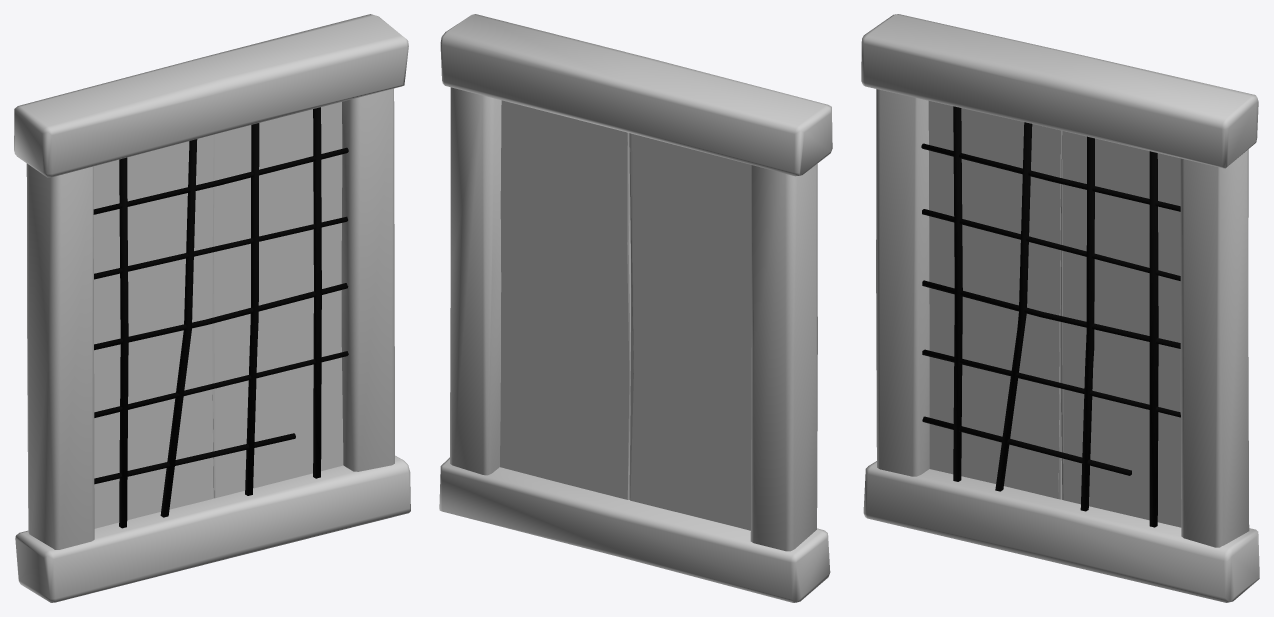
The model's file is SM_Window_03_LOD_01.FBX.
3 renders of one model, left to right at view 1: azimuth 30°, elevation 25°; view 2: azimuth 150°, elevation 25°; view 3: azimuth 330°, elevation 25°, orthographic.
Visible parts, largest first — view 1: SM_Window_03, SM_Window_03_Shutter_Right, SM_Window_03_Shutter_Left; view 2: SM_Window_03, SM_Window_03_Shutter_Right, SM_Window_03_Shutter_Left; view 3: SM_Window_03, SM_Window_03_Shutter_Left, SM_Window_03_Shutter_Right.
Part boxes in pixels (<box>): SM_Window_03: <box>14,14,410,602</box>; SM_Window_03_Shutter_Right: <box>212,102,343,498</box>; SM_Window_03_Shutter_Left: <box>93,134,213,528</box>; SM_Window_03: <box>439,14,832,602</box>; SM_Window_03_Shutter_Right: <box>500,100,630,499</box>; SM_Window_03_Shutter_Left: <box>629,133,751,530</box>; SM_Window_03: <box>861,14,1259,602</box>; SM_Window_03_Shutter_Left: <box>928,101,1062,499</box>; SM_Window_03_Shutter_Right: <box>1060,131,1181,527</box>.
Size of the model in its own units: 1.06 by 1.34 by 0.1914.
